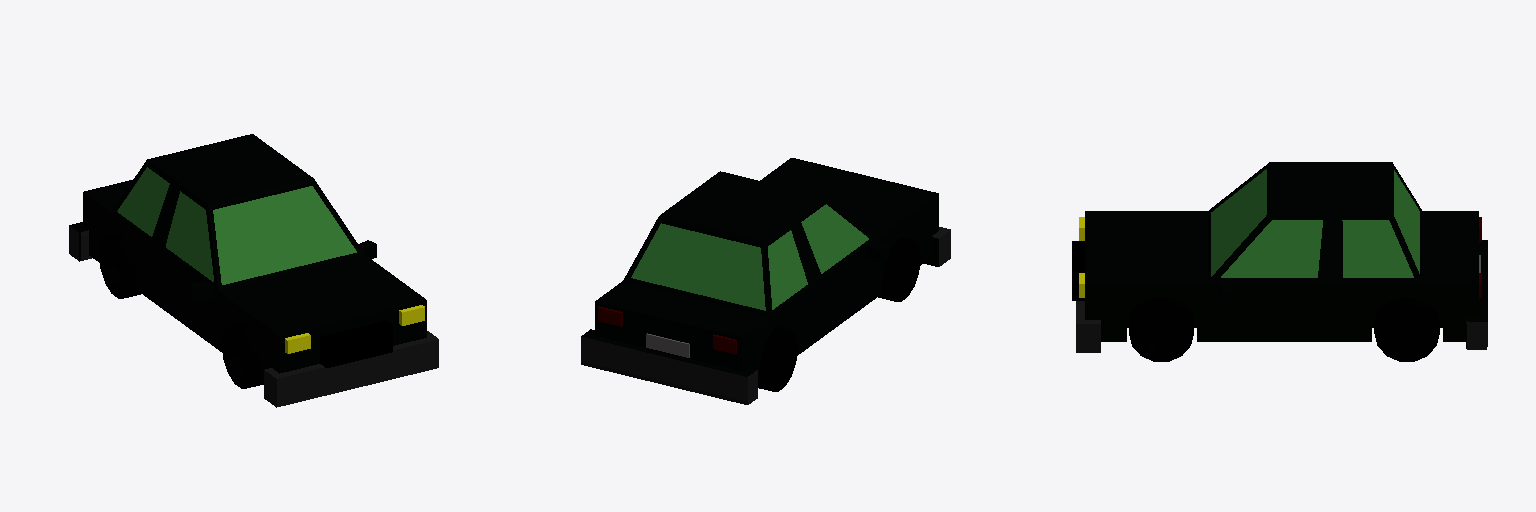
File: cool-car.obj
The picture shows the model from 3 angles: view 1: azimuth 30°, elevation 25°; view 2: azimuth 150°, elevation 25°; view 3: azimuth 270°, elevation 25°; orthographic projection.
Parts seen in each view (by area): view 1: rodas; view 2: rodas; view 3: rodas.
Boxes of the visible parts, box(x1,y1,x2,y2) form: rodas: box(69, 134, 438, 407); rodas: box(581, 158, 950, 404); rodas: box(1072, 162, 1487, 361).
Size of the model in its own units: 2.5 by 1.77 by 4.88.